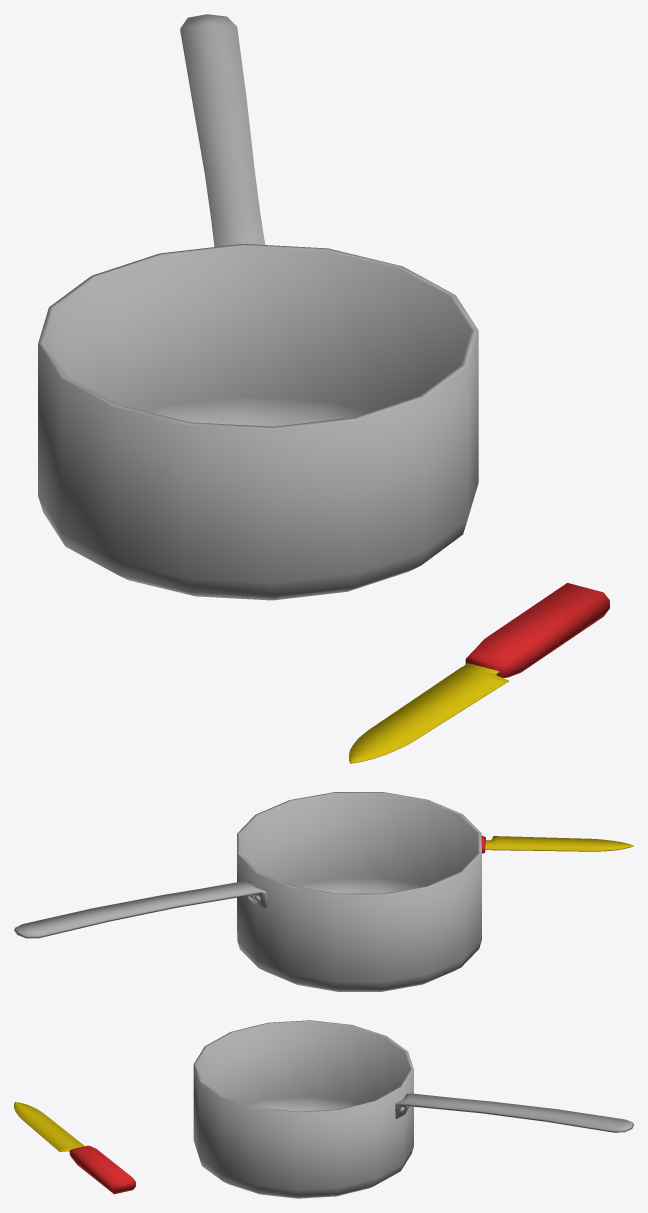
File: kitchen_pot2.fbx
3 views of the same model, one above another, from view 1: azimuth 30°, elevation 25°; view 2: azimuth 150°, elevation 25°; view 3: azimuth 270°, elevation 25° (orthographic). The views are drawn at different scales.
Parts seen in each view (by area): view 1: HSHP_MOD_Cooking_pot_02, HSHP_MOD_Knife_01; view 2: HSHP_MOD_Cooking_pot_02, HSHP_MOD_Knife_01; view 3: HSHP_MOD_Cooking_pot_02, HSHP_MOD_Knife_01.
Part boxes in pixels (x1,y1,x2,y2): HSHP_MOD_Cooking_pot_02: (38,14,478,600); HSHP_MOD_Knife_01: (349,583,609,763); HSHP_MOD_Cooking_pot_02: (14,792,481,991); HSHP_MOD_Knife_01: (481,835,633,853); HSHP_MOD_Cooking_pot_02: (193,1020,633,1198); HSHP_MOD_Knife_01: (14,1102,135,1194).
Bounding box in the file's own units: 15.54 × 6.01 × 34.27.
